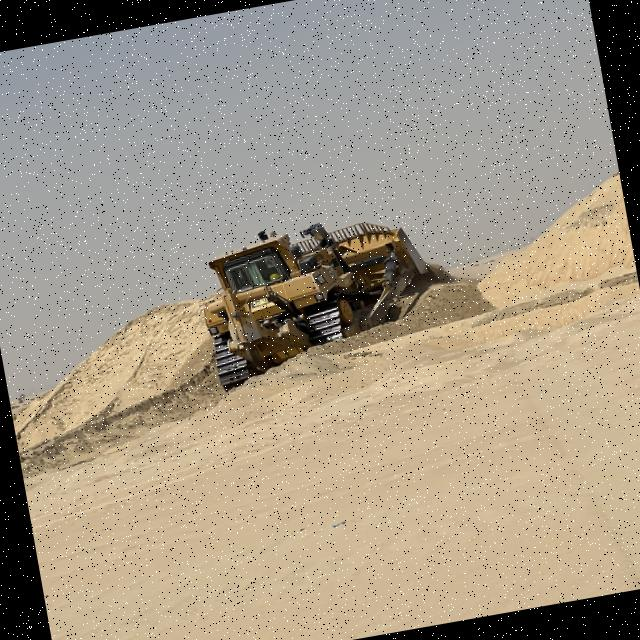Bulldozer: (186, 196, 442, 398)
